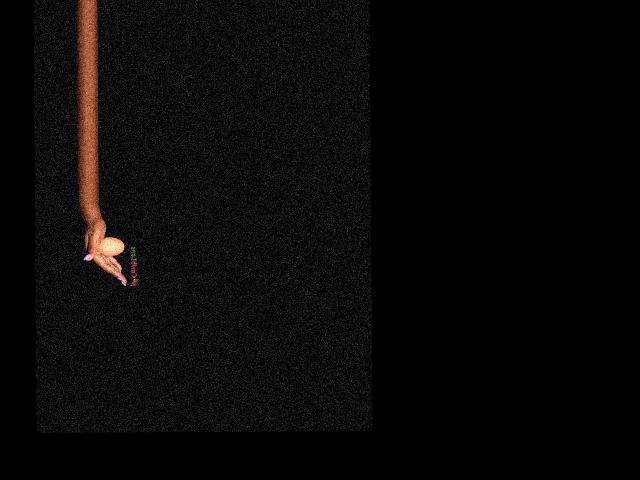egg: (98, 236, 124, 256)
